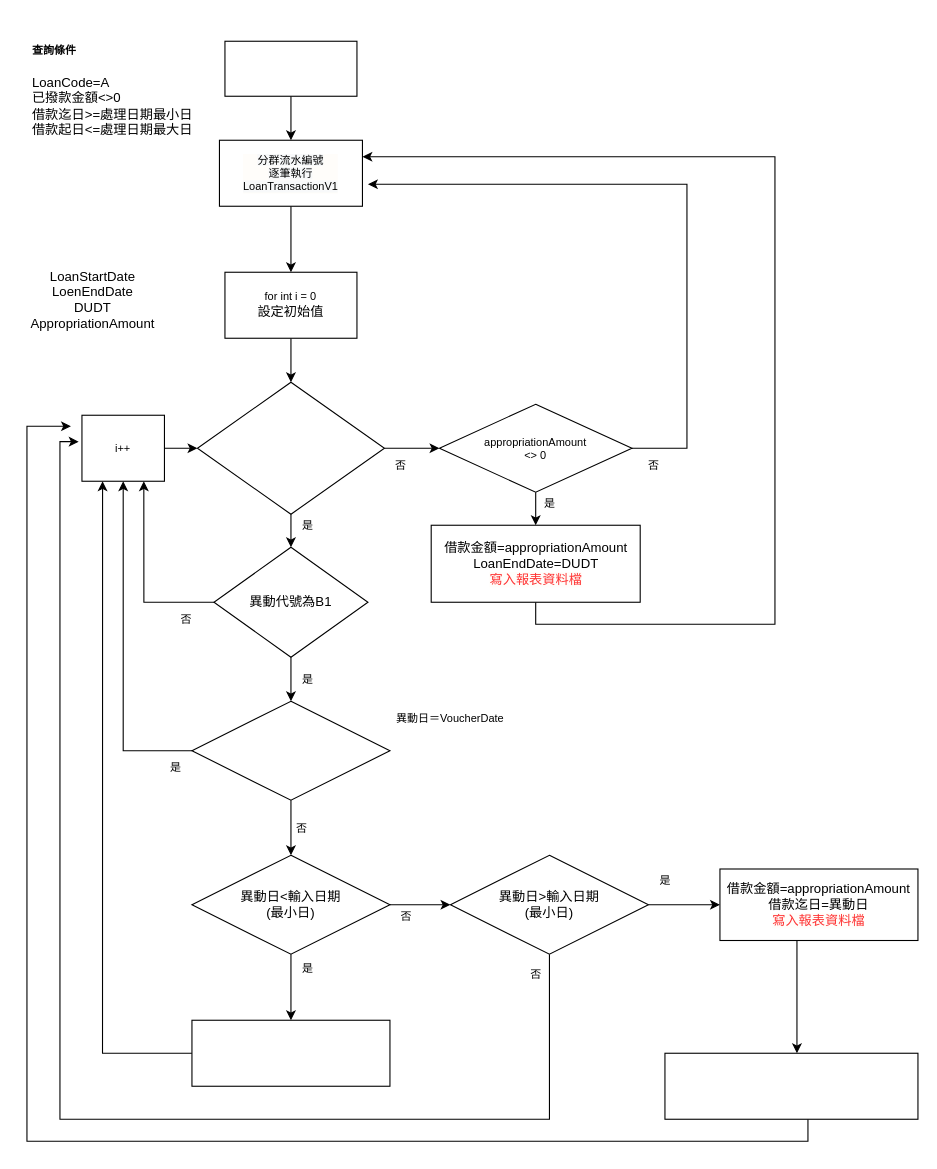
This 937x1169 diagram has some shape labels left out. Each missing label, with the centre of its shape:
appropriationAmount-=AmountOfOriginalCurrency: the point at 290,1052
appropriationAmount-=AmountOfOriginalCurrency 借款起日= 入帳日 (VoucherDate): the point at 791,1085
i<=相同流水編號總筆數: the point at 290,447
查詢LoanTransactionV1: the point at 290,68
異動日> 輸入日期 ( 最大日 ): the point at 290,750
